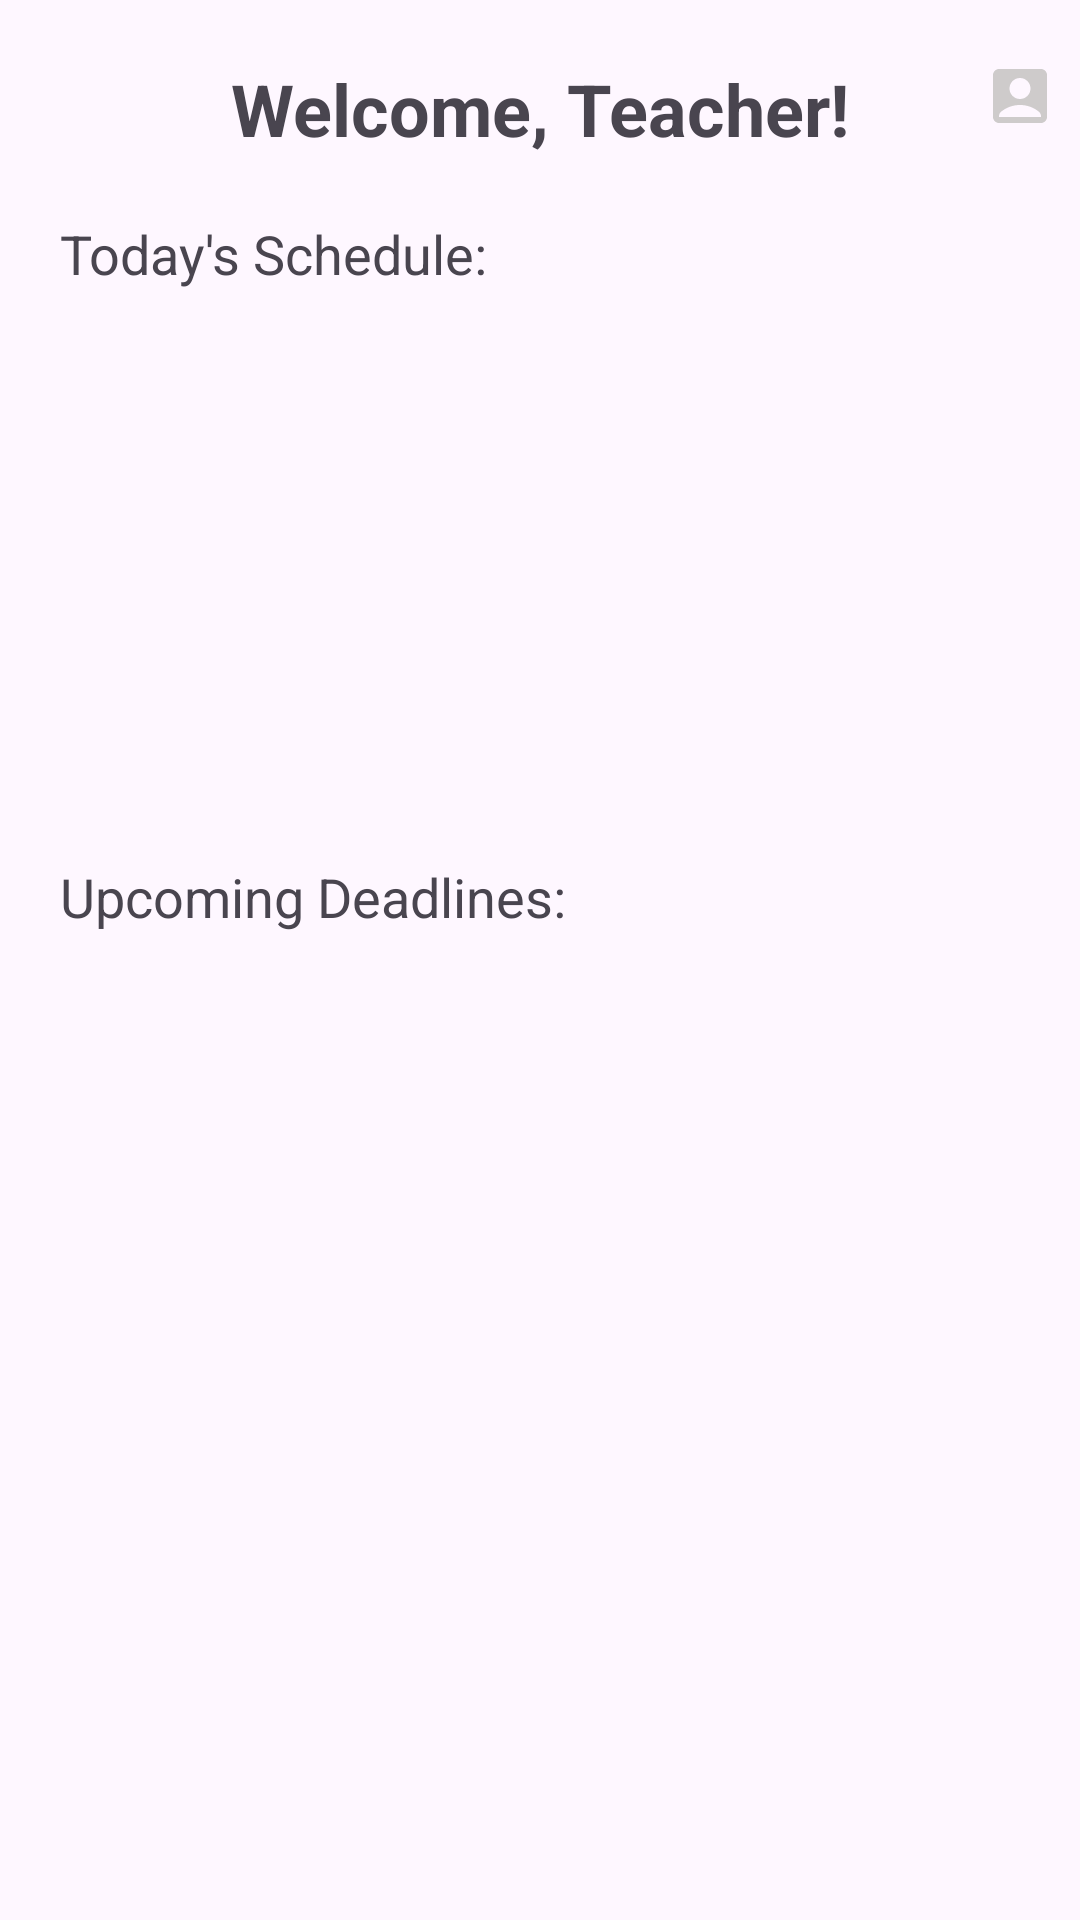

Locate icon controls on the screen. Image size 1080px×1920px, boxes as (x1, y1, x2, y2).
account box: (993, 69, 1047, 123)
